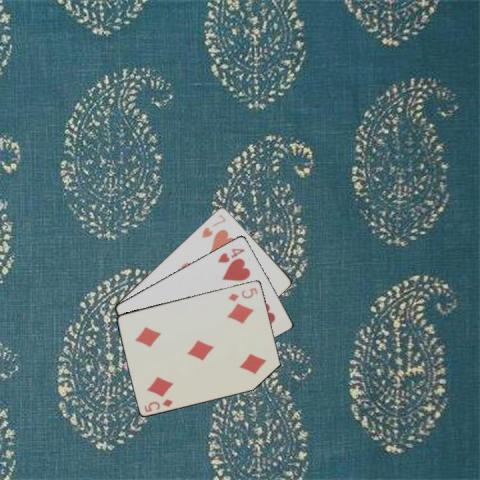4h: (215, 245, 246, 264)
5d: (225, 284, 259, 302), (141, 396, 175, 413)
7h: (199, 211, 227, 239)
